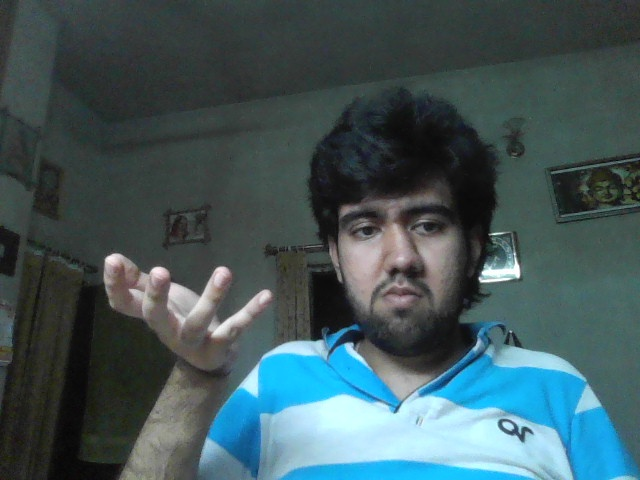What: (103, 252, 275, 375)
